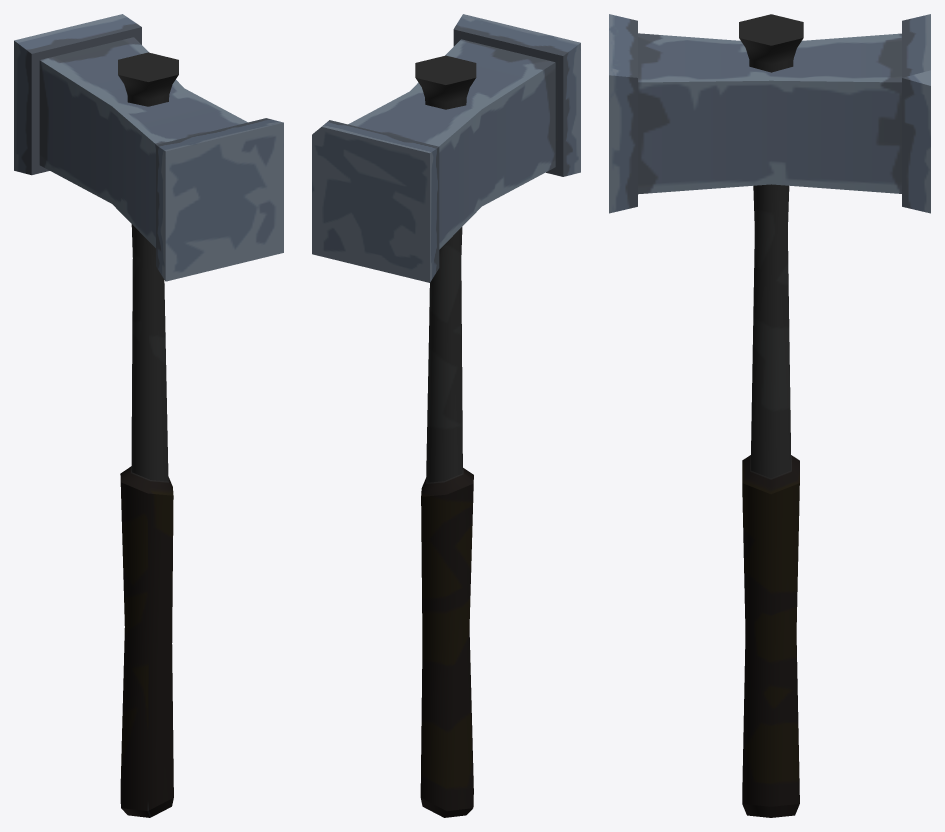
File: Warhammer1.fbx
3 views of the same model, side by side, from view 1: azimuth 30°, elevation 25°; view 2: azimuth 150°, elevation 25°; view 3: azimuth 270°, elevation 25° (orthographic). The views are drawn at different scales.
Visible parts, largest first — view 1: Warhammer1; view 2: Warhammer1; view 3: Warhammer1.
Part boxes in pixels (x1=…): Warhammer1: x1=14, y1=14, x2=283, y2=817; Warhammer1: x1=312, y1=14, x2=580, y2=817; Warhammer1: x1=609, y1=14, x2=930, y2=817.
Size of the model in its own units: 18.44 by 111 by 40.93.
